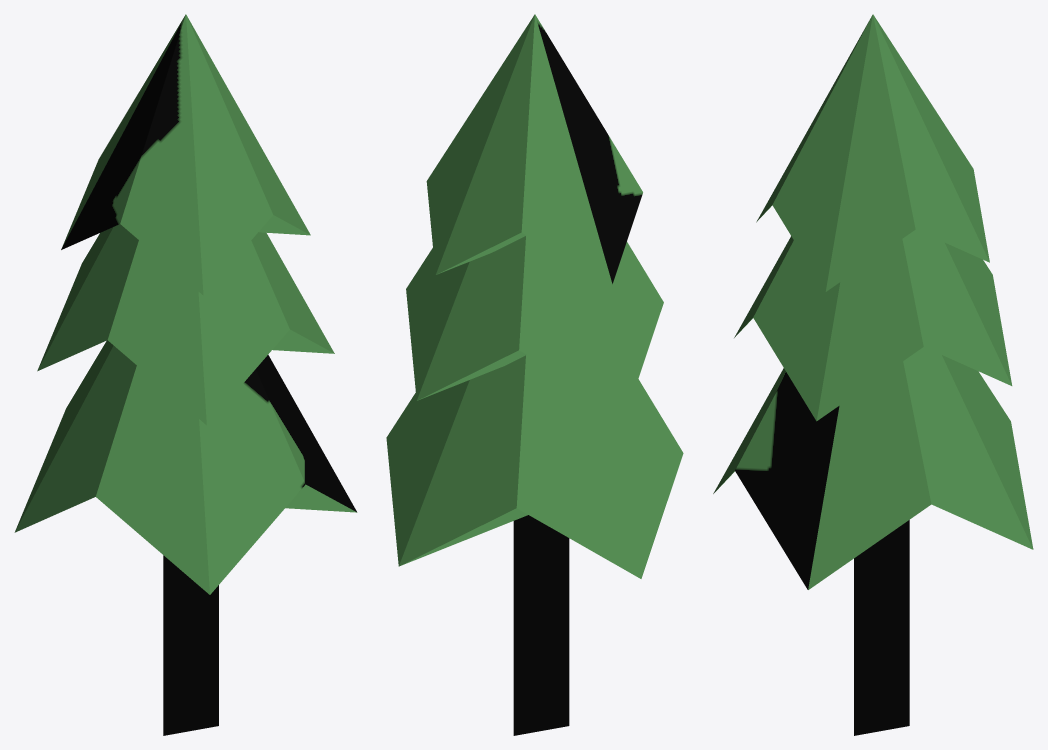
File: fbChristmasTree3.fbx
3 renders of one model, left to right at view 1: azimuth 30°, elevation 25°; view 2: azimuth 150°, elevation 25°; view 3: azimuth 270°, elevation 25°, orthographic.
Parts seen in each view (by area): view 1: Cylinder.045; view 2: Cylinder.045; view 3: Cylinder.045.
Boxes of the visible parts, <box> form: Cylinder.045: <box>14,14,357,735</box>; Cylinder.045: <box>386,14,683,735</box>; Cylinder.045: <box>713,14,1033,735</box>.
Size of the model in its own units: 118 by 288 by 118.
